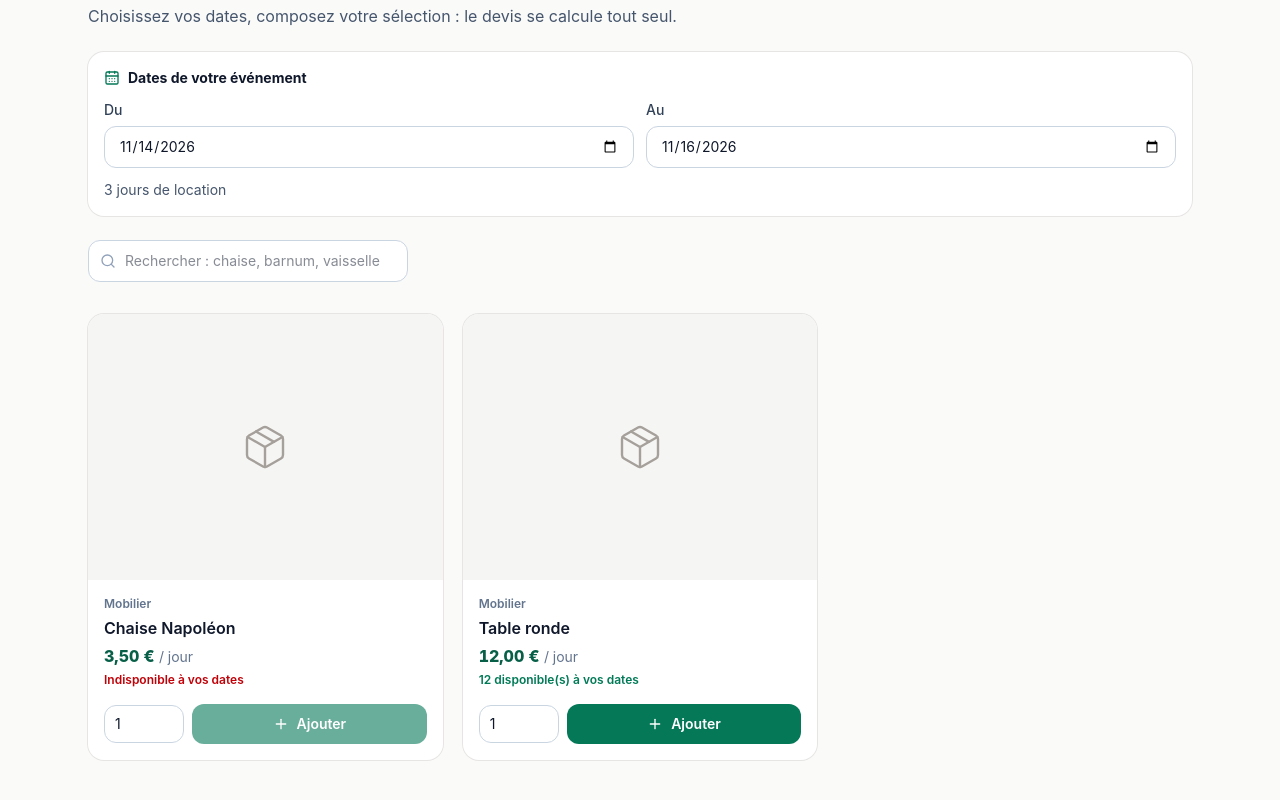
Test: Catalogue public (US-05) › affiche la disponibilite a vos dates et ajoute au devis
(page scrolled)
Expected: the text "Indisponible à vos dates" is shown, [104, 672, 244, 687]
Expected: the text "12 disponible(s) à vos dates" is shown, [479, 672, 639, 687]
Click the button with aria-label "Ajouter au devis : Table ronde" at (684, 724), box [567, 704, 801, 744]
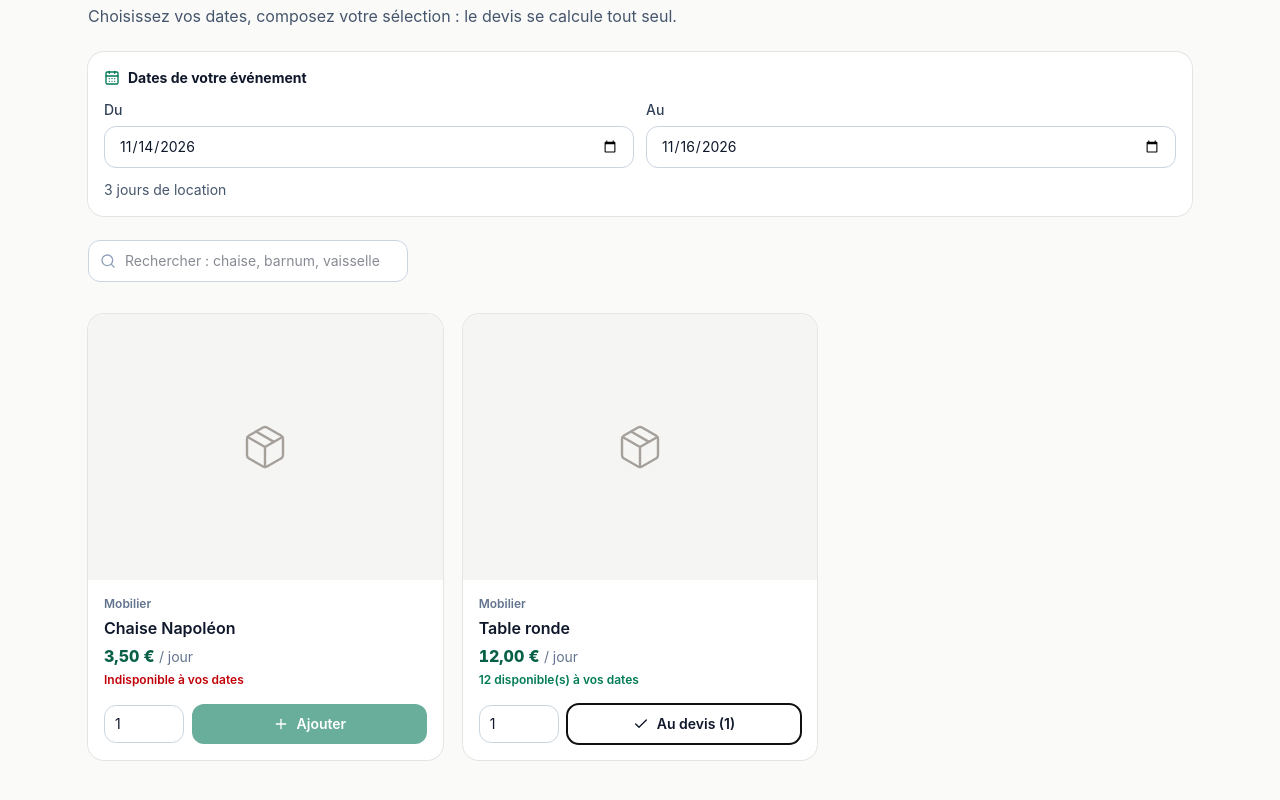
Result: the button with aria-label "Ajouter au devis : Table ronde" reads "Au devis (1)" at [567, 704, 801, 744]
